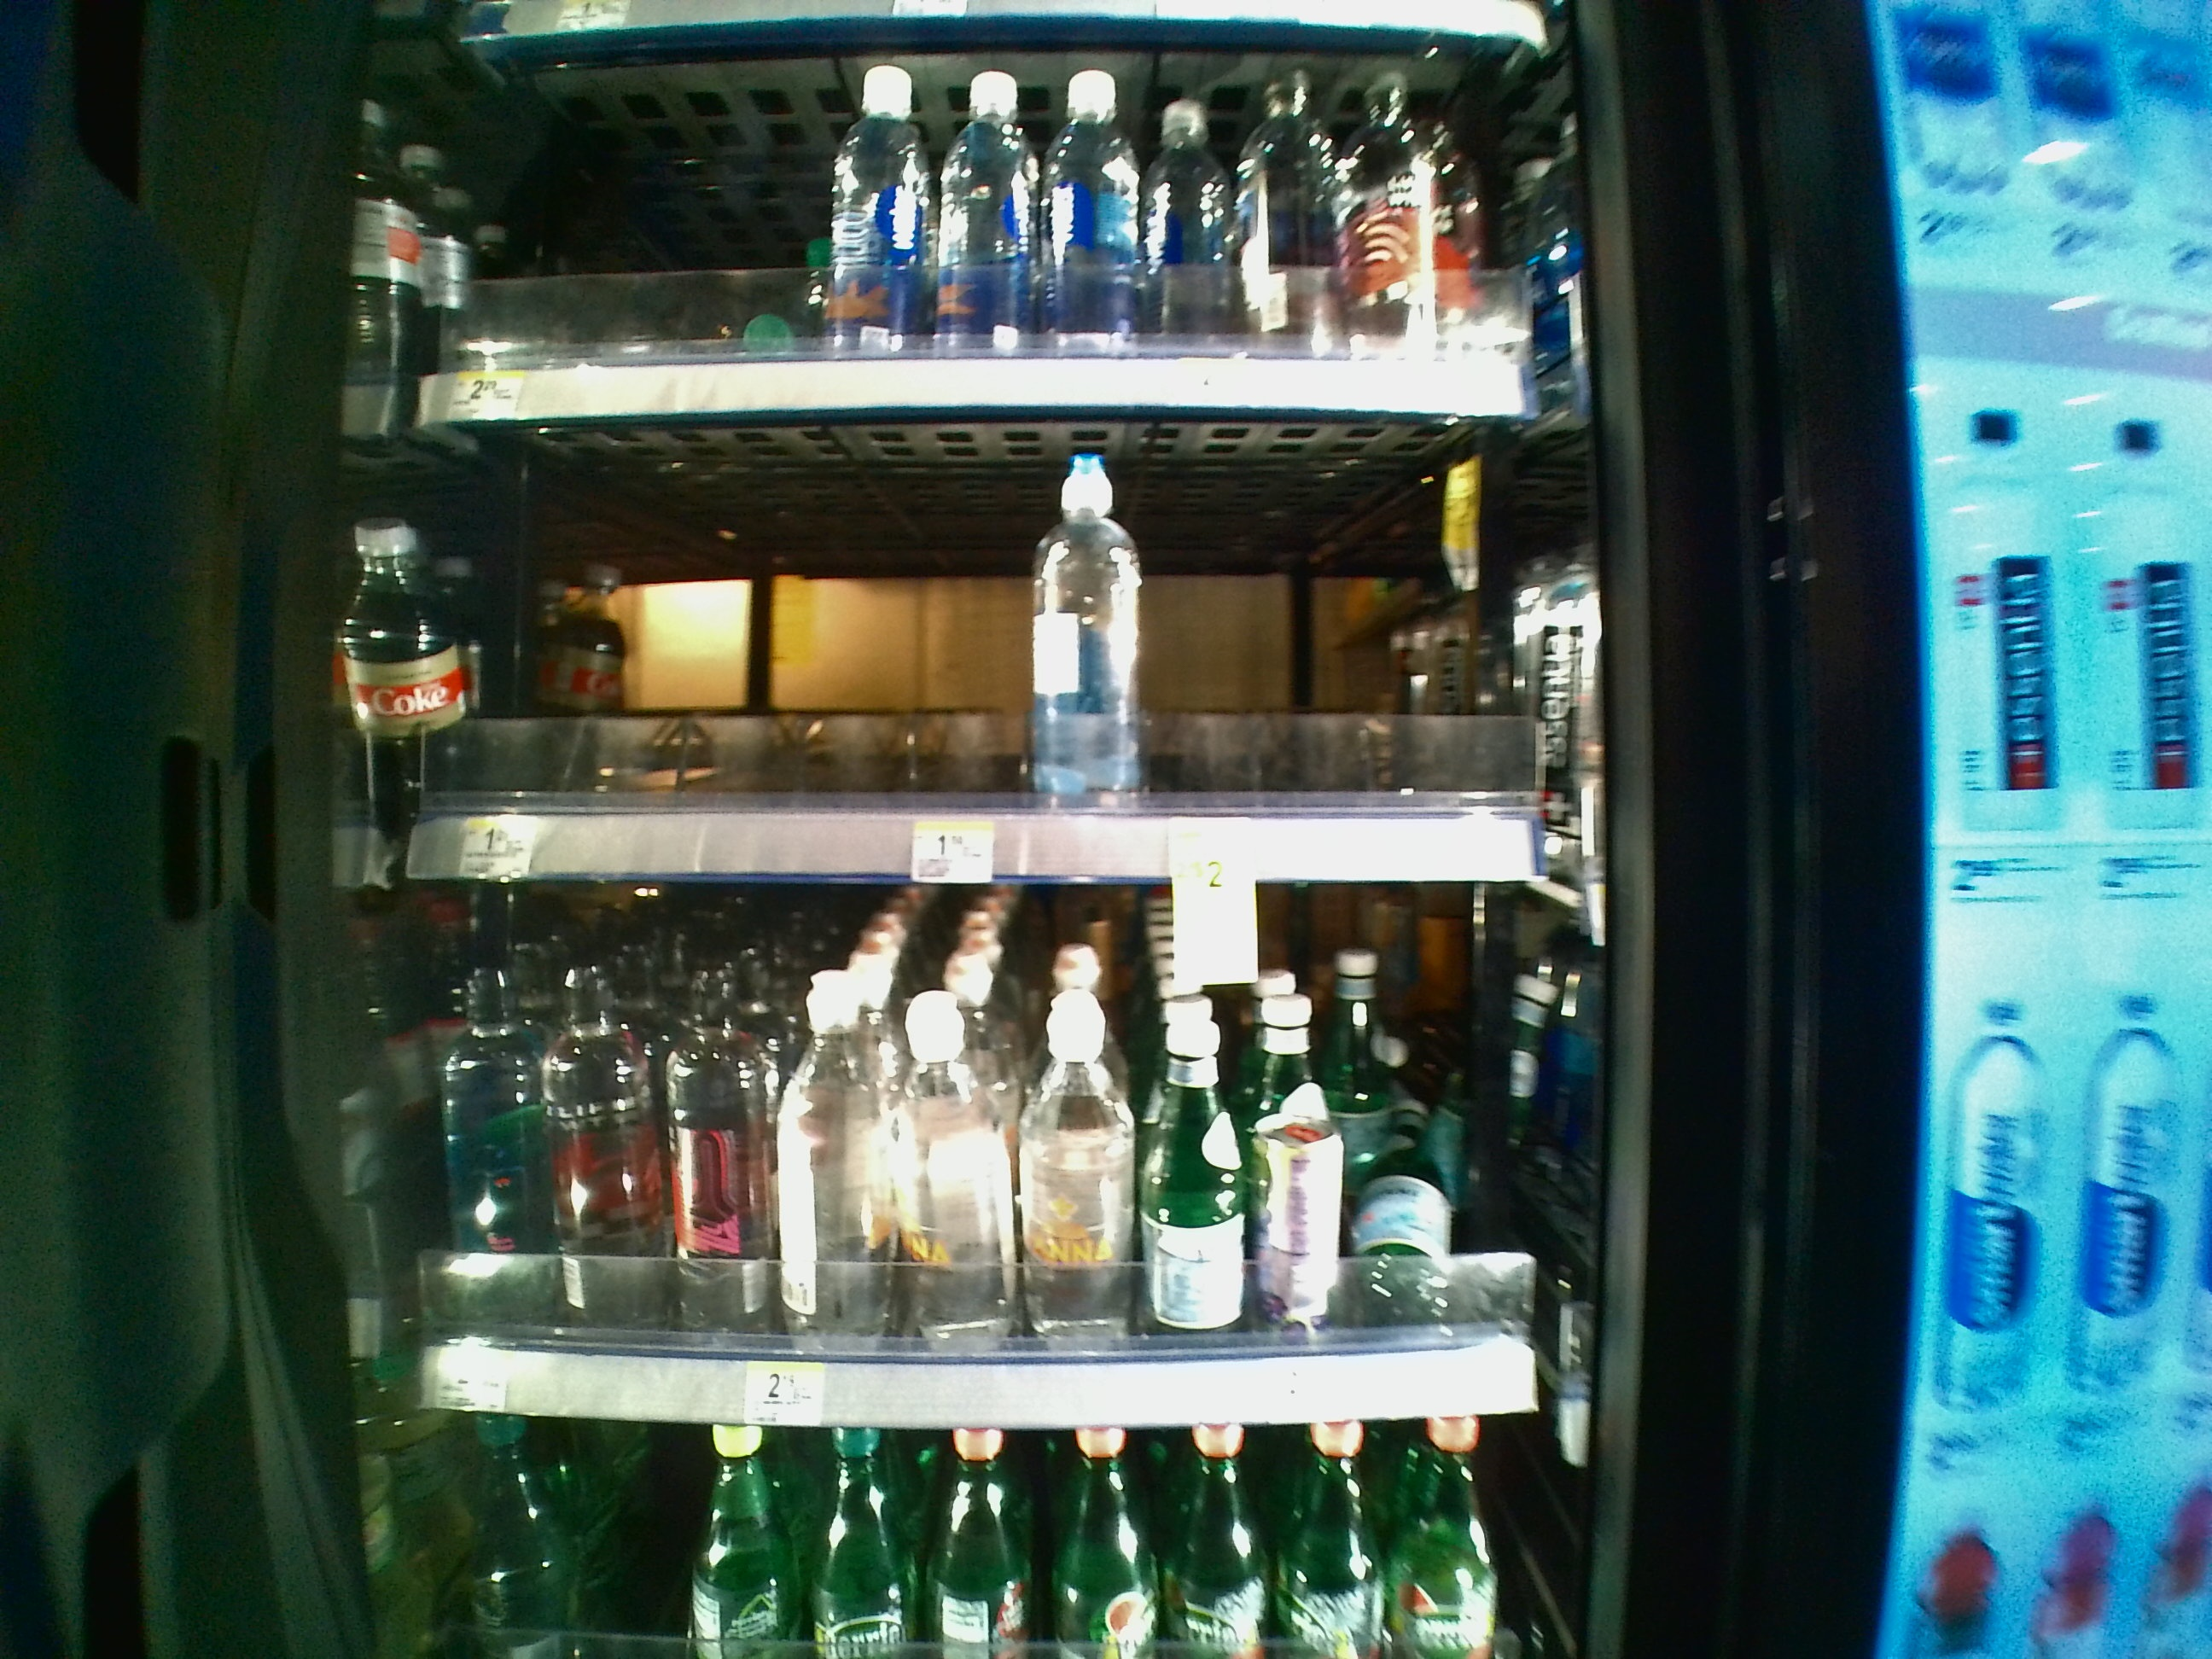Shelf: (387, 882, 1578, 1431), (387, 422, 1555, 882)
